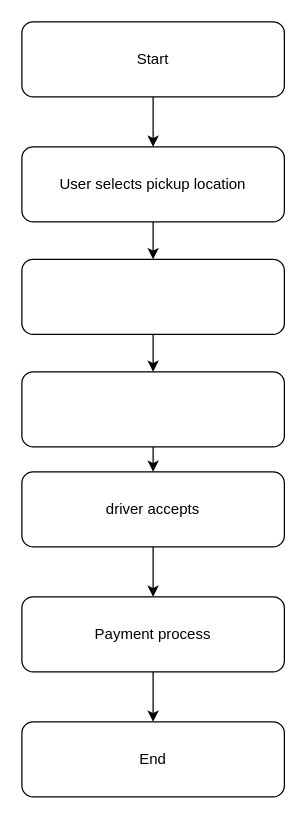
Image size: 306x819. Some labels were removed from this diagram. Each missing label, with the centre of its shape:
"System finds available cars" goes at (x=152, y=409).
"User selects destination" goes at (x=152, y=296).
